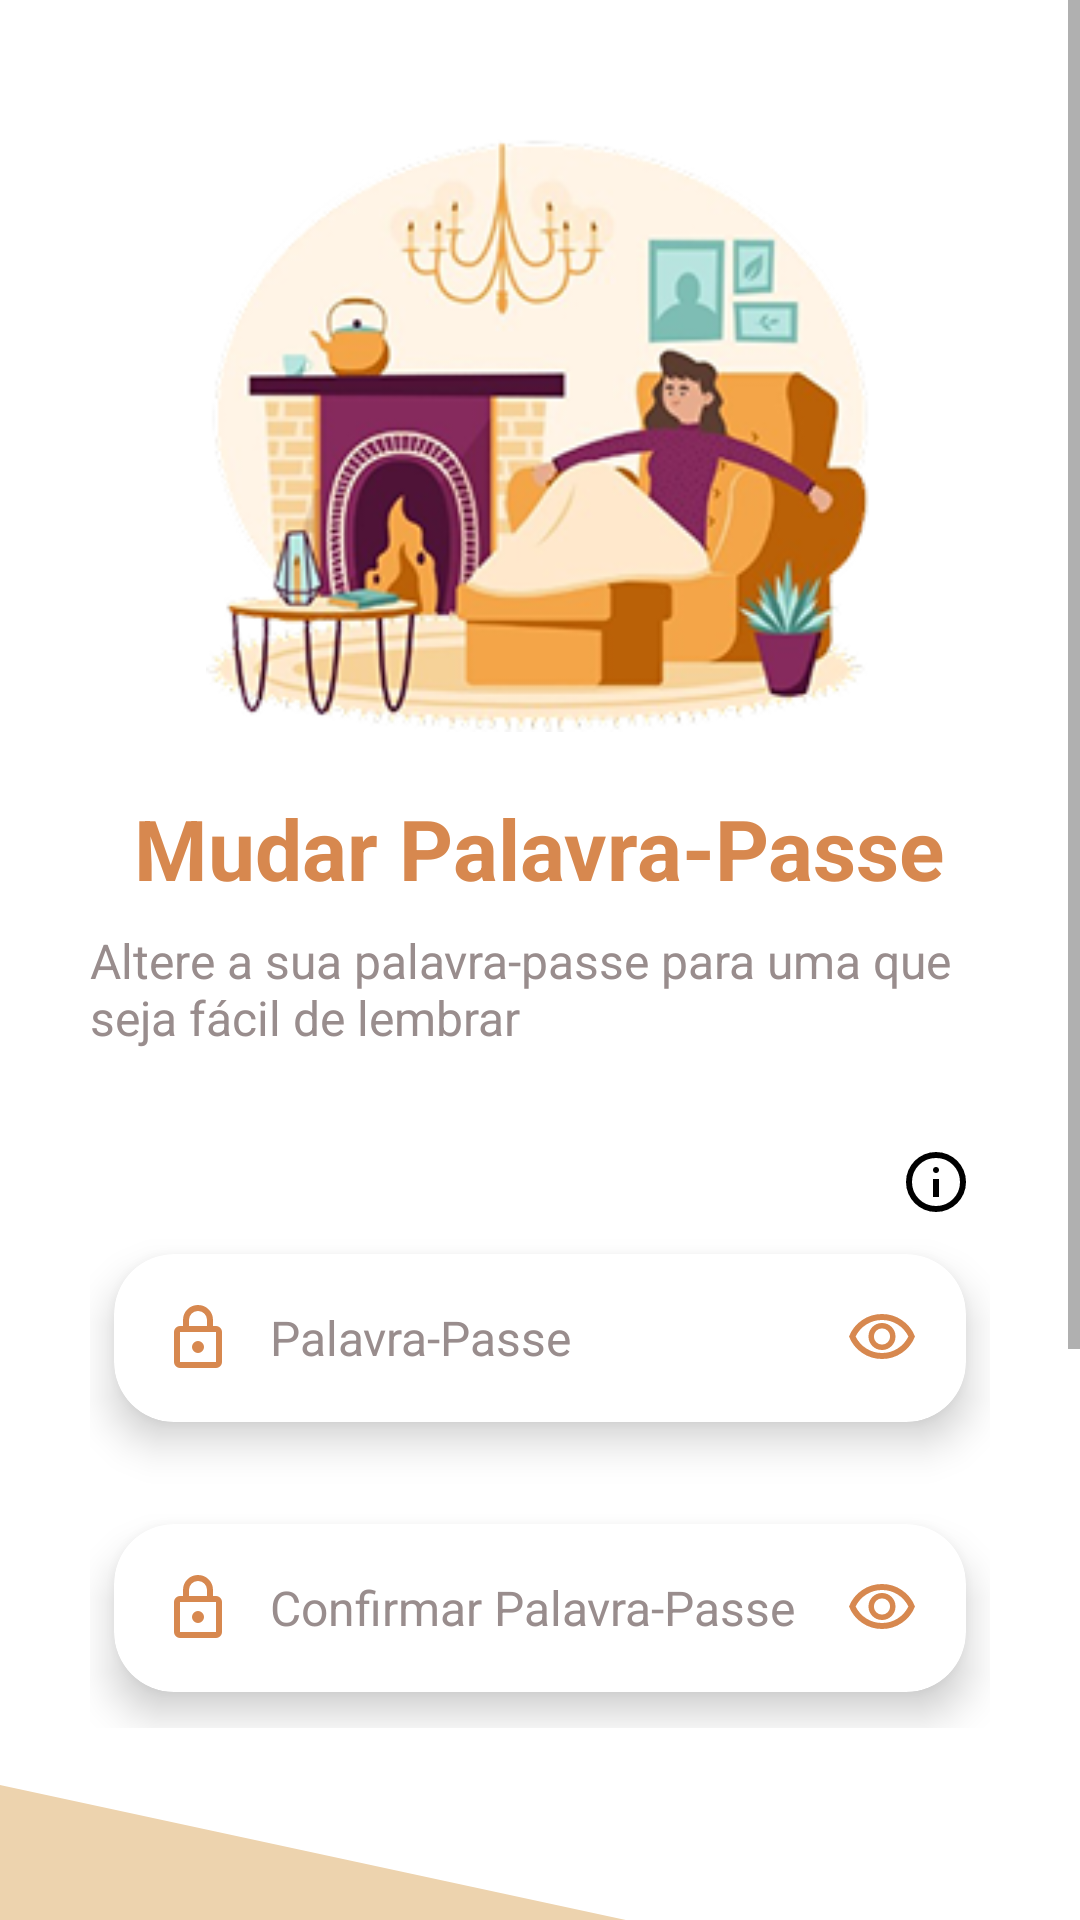

Named icons in this screenshot (1080px x 1920px) and their bounding boxes, (x1, y1, x2, y2):
info: (906, 1152, 966, 1212)
lock: (174, 1305, 222, 1368), (174, 1575, 222, 1638)
Toggle password visibility: (849, 1314, 915, 1359), (849, 1584, 915, 1629)
